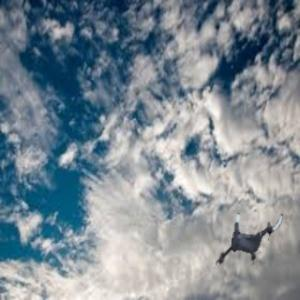drone: (214, 199, 289, 274)
